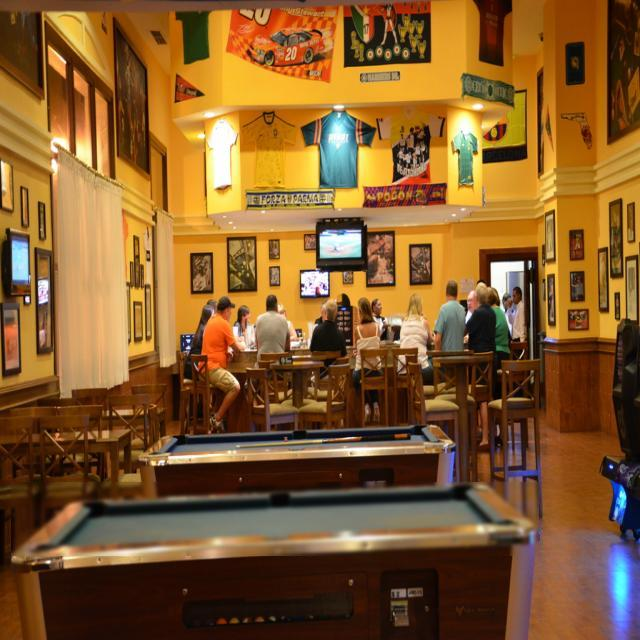Billiard table: (12, 482, 540, 556), (136, 424, 456, 462)
